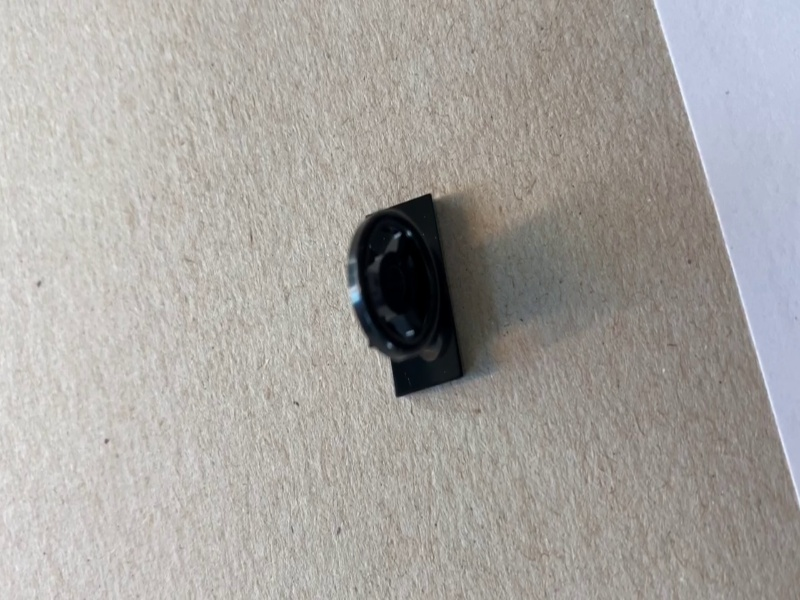steering wheel: (345, 193, 468, 400)
